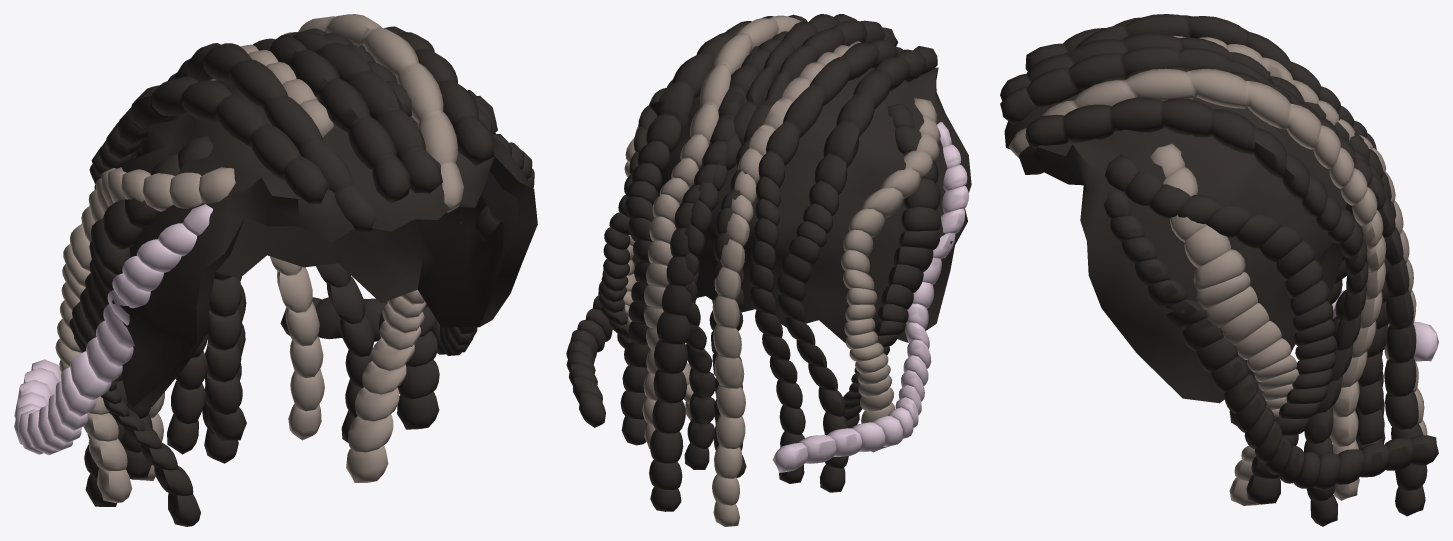
3 views of the same model, side by side, from view 1: azimuth 30°, elevation 25°; view 2: azimuth 150°, elevation 25°; view 3: azimuth 270°, elevation 25° (orthographic). The views are drawn at different scales.
Visible parts, largest first — view 1: deadlocks; view 2: deadlocks; view 3: deadlocks.
Part boxes in pixels (left/top/right/bottom): deadlocks: left=14, top=14, right=537, bottom=526; deadlocks: left=566, top=14, right=971, bottom=526; deadlocks: left=1000, top=14, right=1438, bottom=526.
Bounding box in the file's own units: 2.63 × 2.98 × 2.61.
